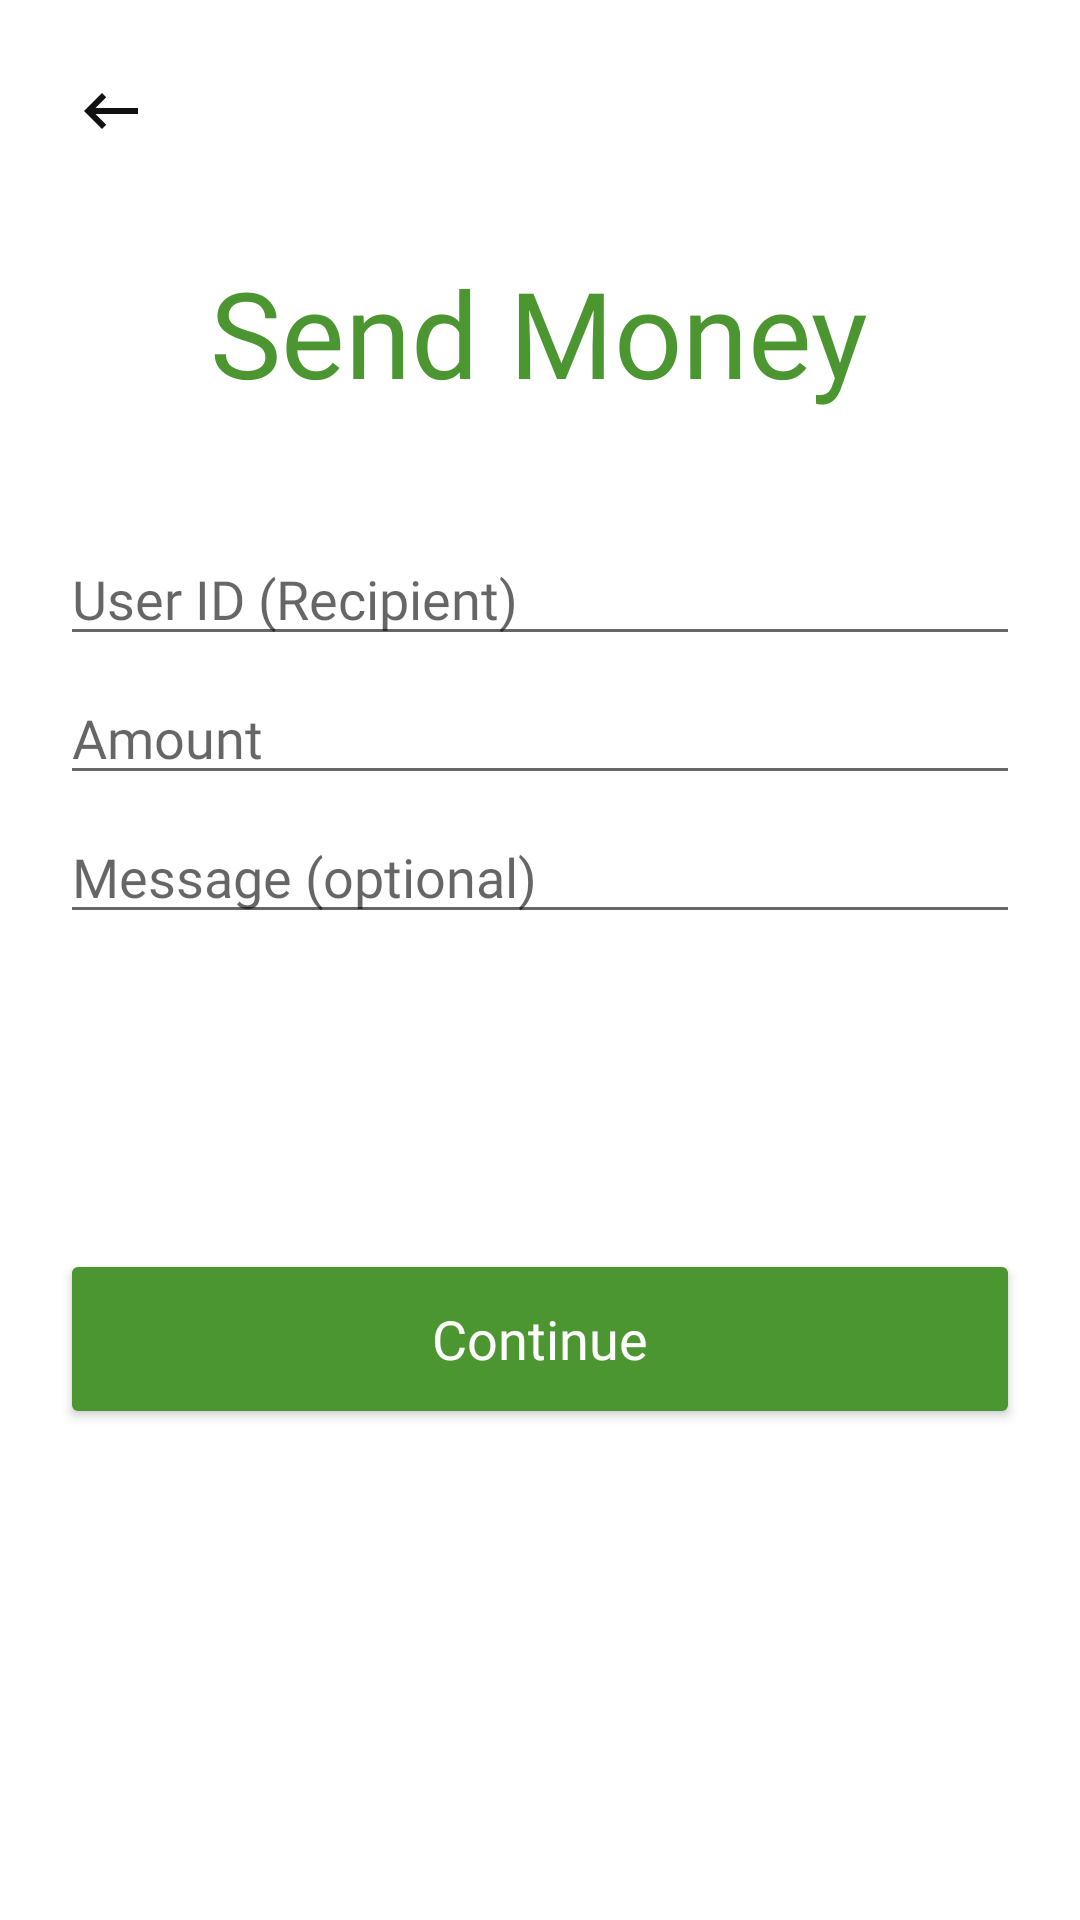

Named icons in this screenshot (1080 x 1920) and their centers, (x=x, y=y):
back: (x=111, y=111)
